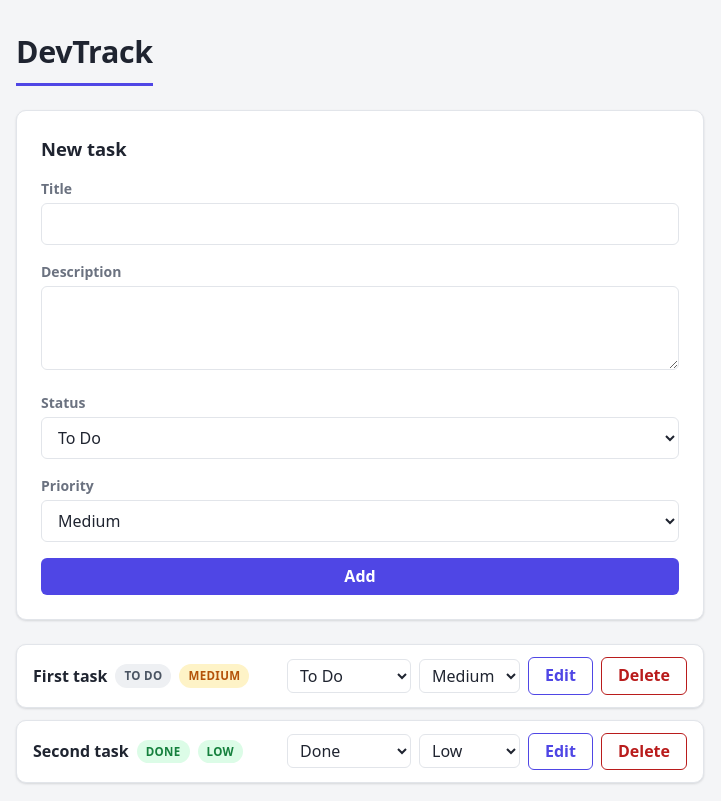
Test: App mutation error keeps the prior list (Requirement 9.10) › a failed delete shows the error message but leaves the original tasks on screen
The width and height of the screenshot is (721, 801).
expect the text "First task" is shown: met, box 33,664 -> 108,688
expect the text "Second task" is shown: met, box 33,739 -> 129,763
Click the button "Delete" in the row of "Medium".
click(644, 676)  # box 601,657 -> 687,695
(page scrolled)
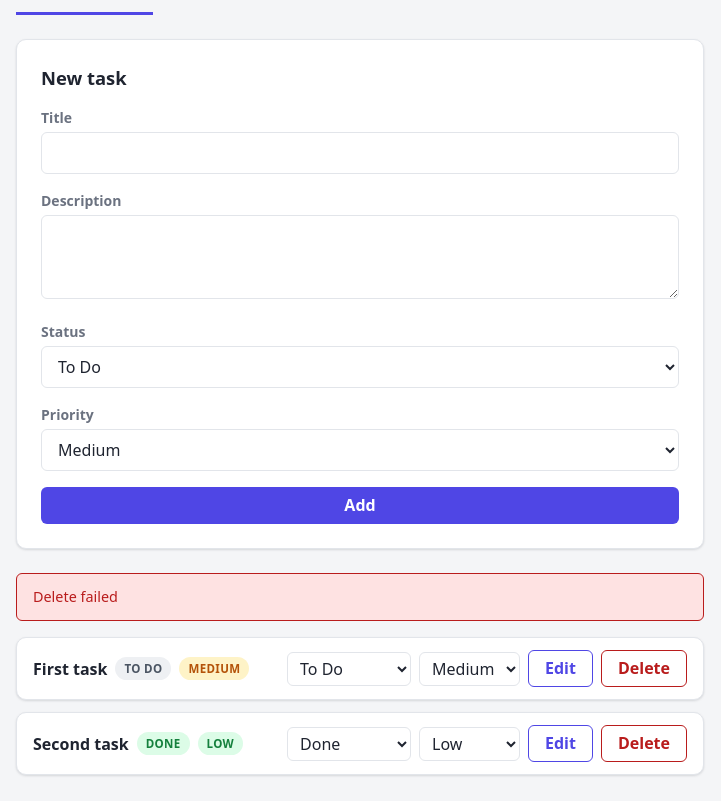
expect the text "First task" is shown: met, box 33,657 -> 108,681
expect the message reads "Delete failed": met, box 33,587 -> 118,606
